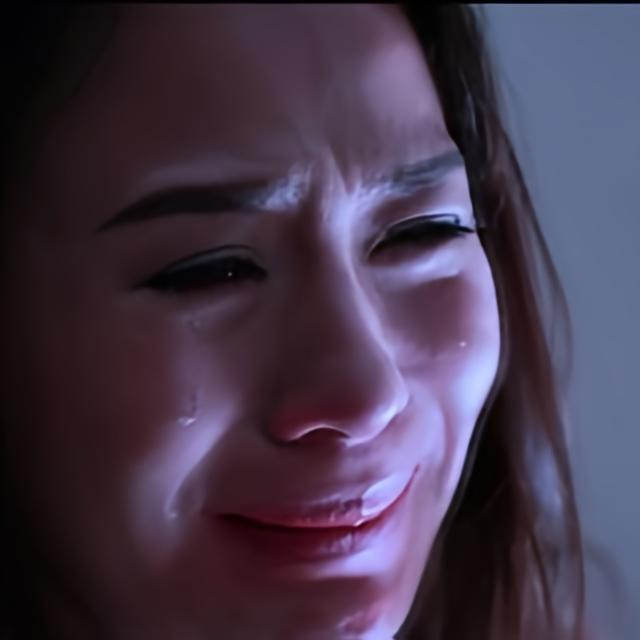sad: (4, 6, 503, 640)
